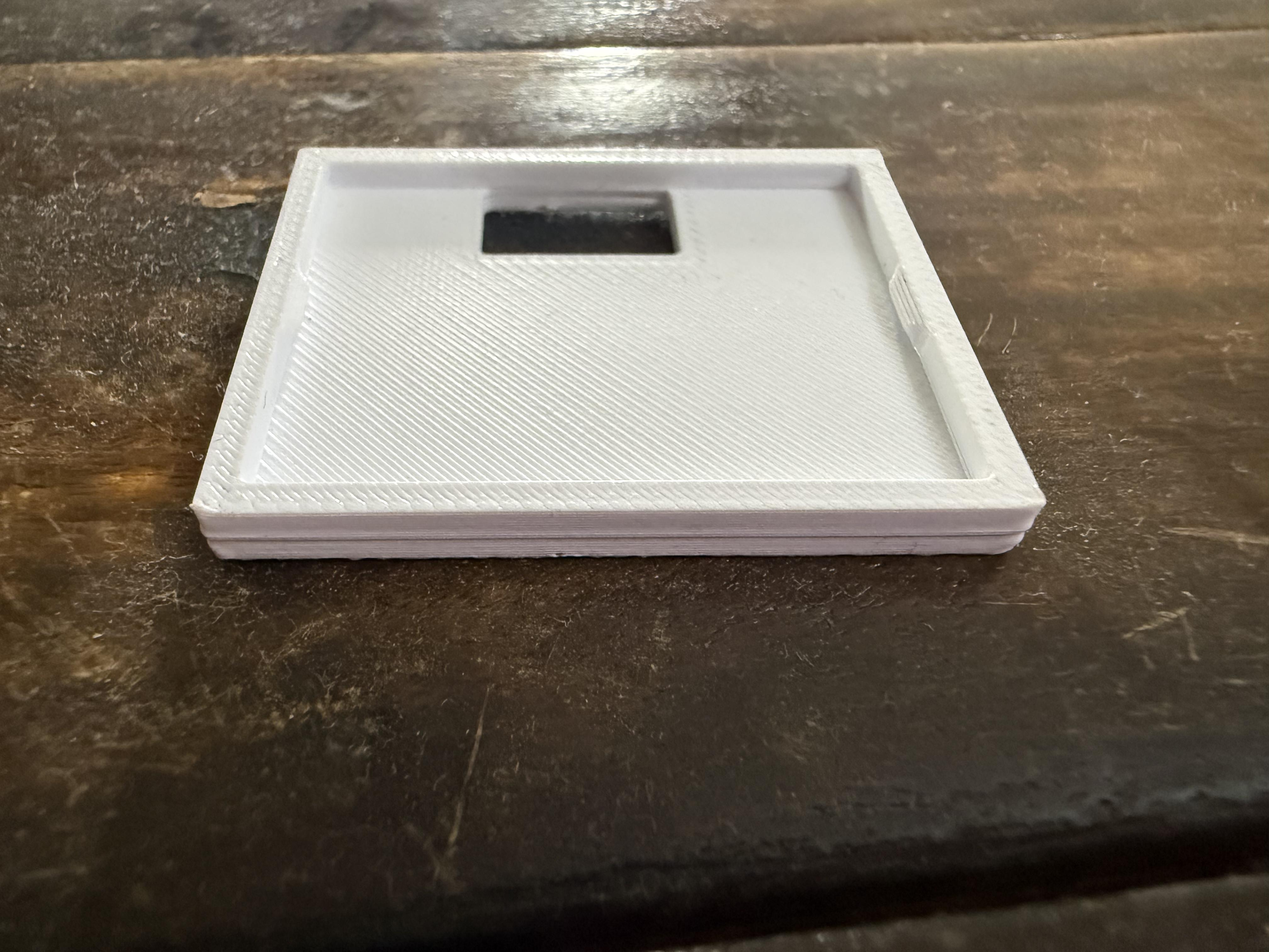enclosure: (190, 147, 1046, 560)
